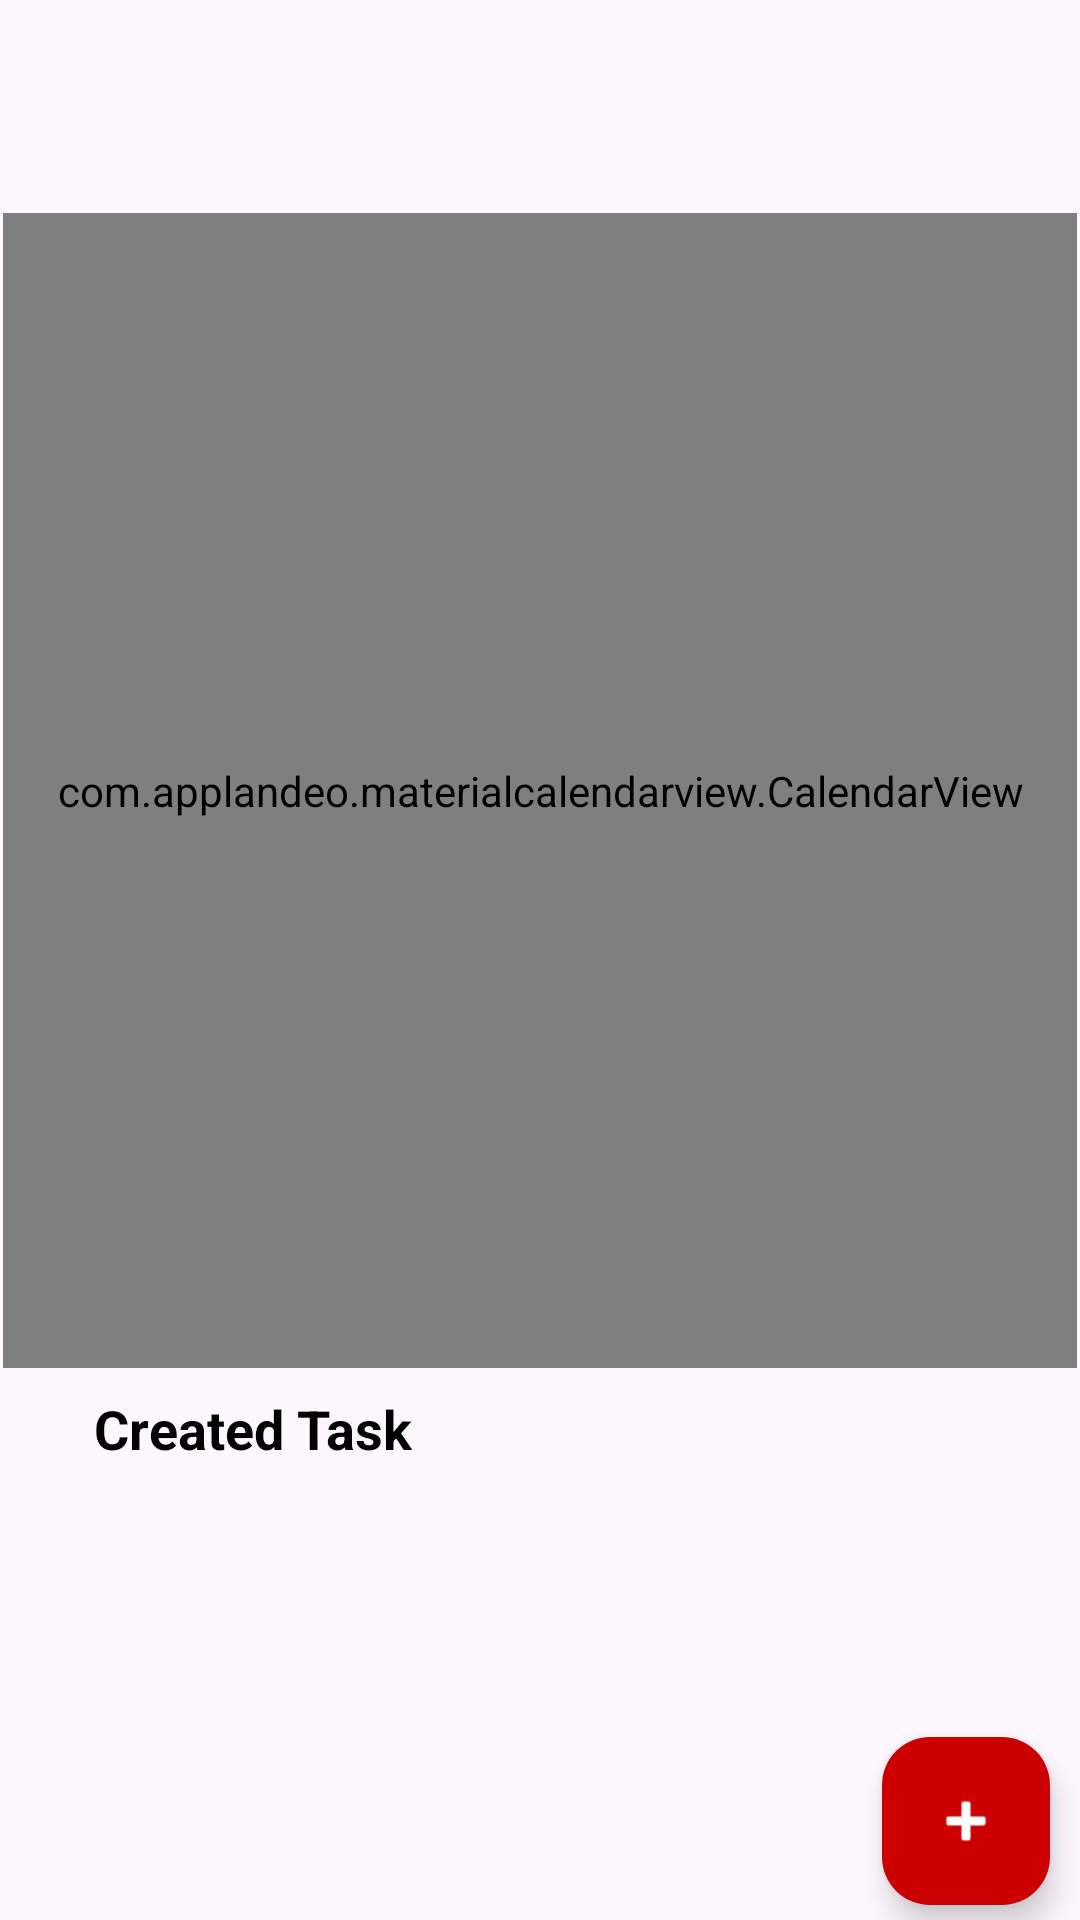

Locate icon controls on the screen. Image size 1080px×1920px, boxes as (x1, y1, x2, y2).
add: (882, 1737, 1050, 1905)
